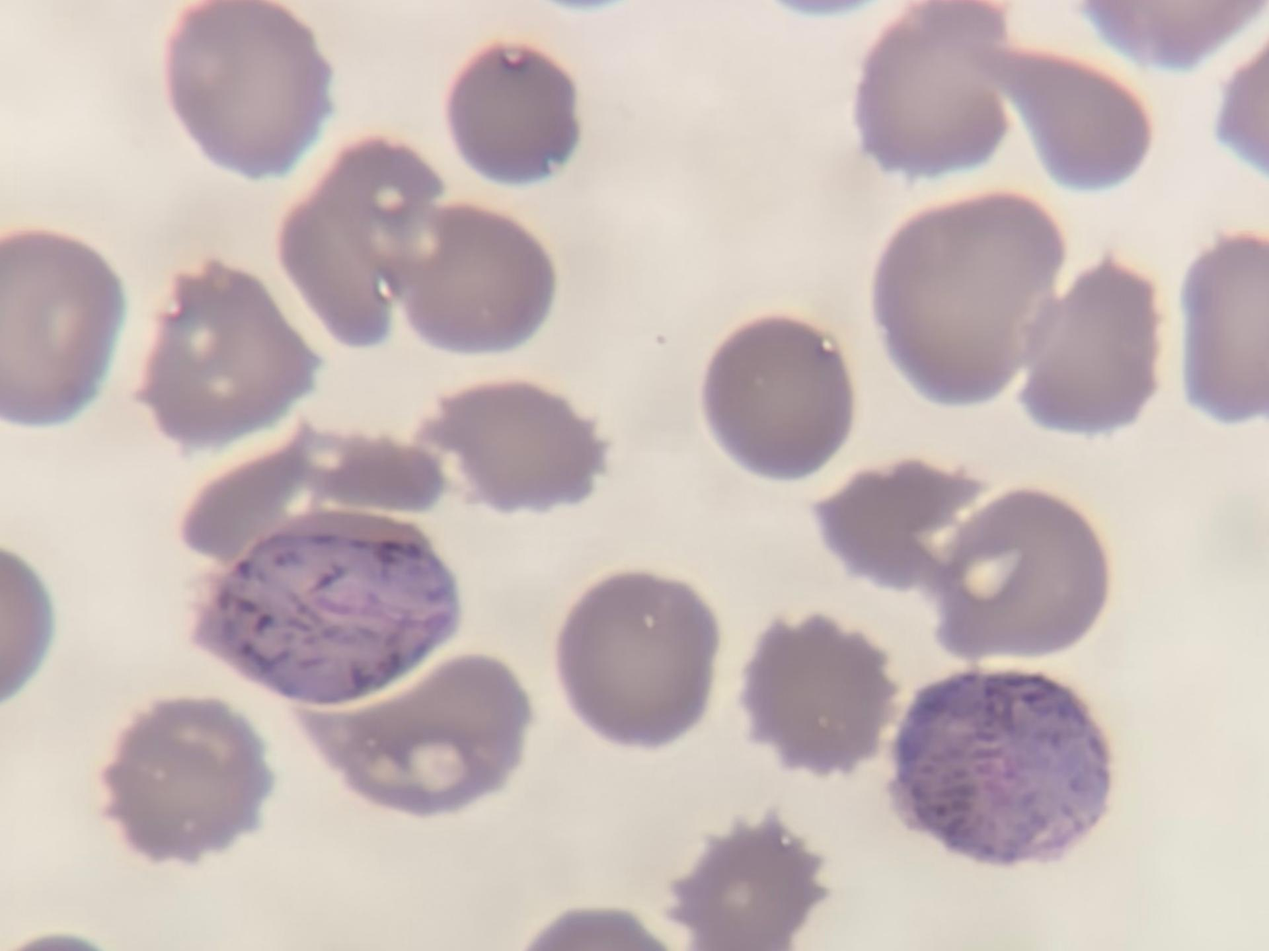Infected: (189, 512, 466, 706), (892, 675, 1113, 869)
Uninfected: (868, 195, 1056, 409), (302, 657, 533, 805), (189, 424, 439, 558), (284, 137, 442, 346), (145, 263, 322, 445), (163, 0, 336, 183), (928, 490, 1107, 661), (99, 701, 278, 862), (978, 27, 1150, 192), (560, 571, 715, 750), (859, 0, 1009, 180), (394, 199, 557, 361), (423, 384, 608, 518), (1020, 261, 1160, 434), (811, 453, 983, 592), (0, 232, 125, 423), (661, 816, 833, 951), (707, 316, 853, 475), (749, 618, 902, 769), (449, 45, 579, 183), (1183, 234, 1269, 424)
